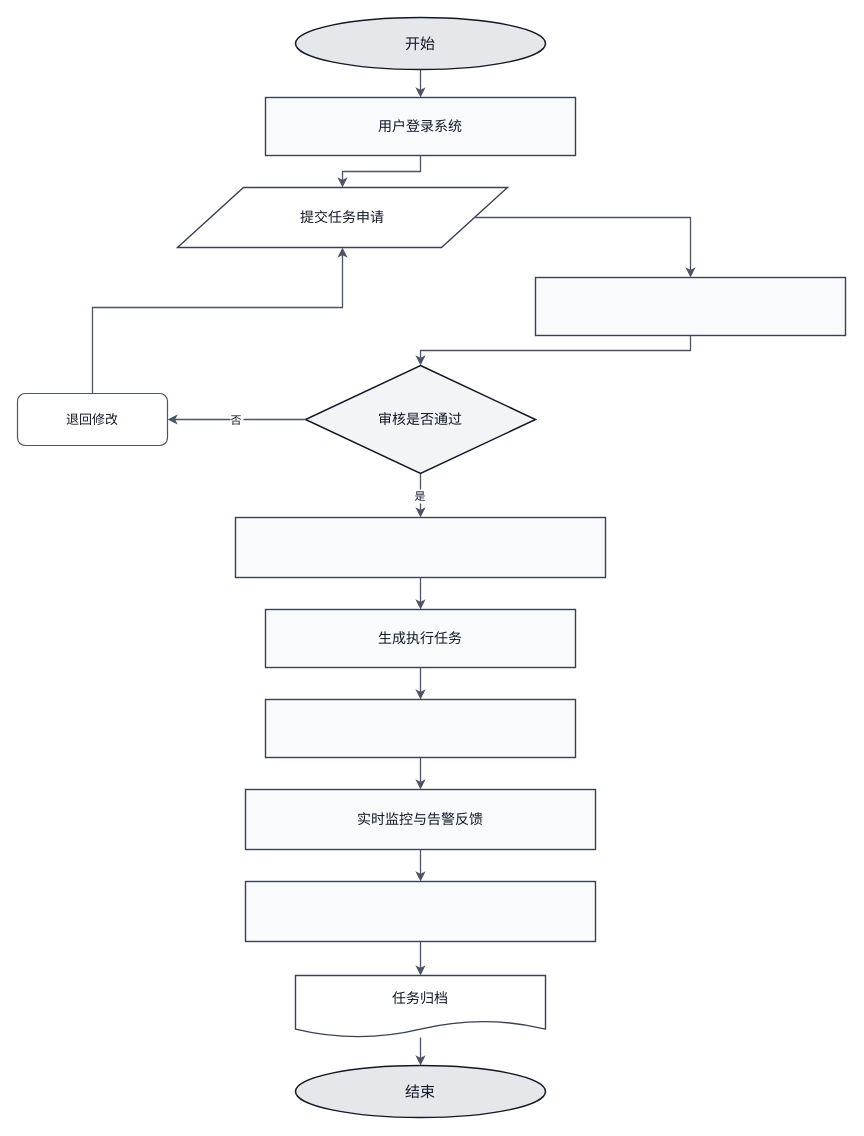
Image size: 864x1136. Some labels were removed from this diagram. The centre of each missing label's shape, as x and y in pixels:
任务分配与地图配置: pixel 420 547
任务回放与结果评估: pixel 420 911
多无人机联合运行: pixel 420 728
管理员审核任务: pixel 690 306
